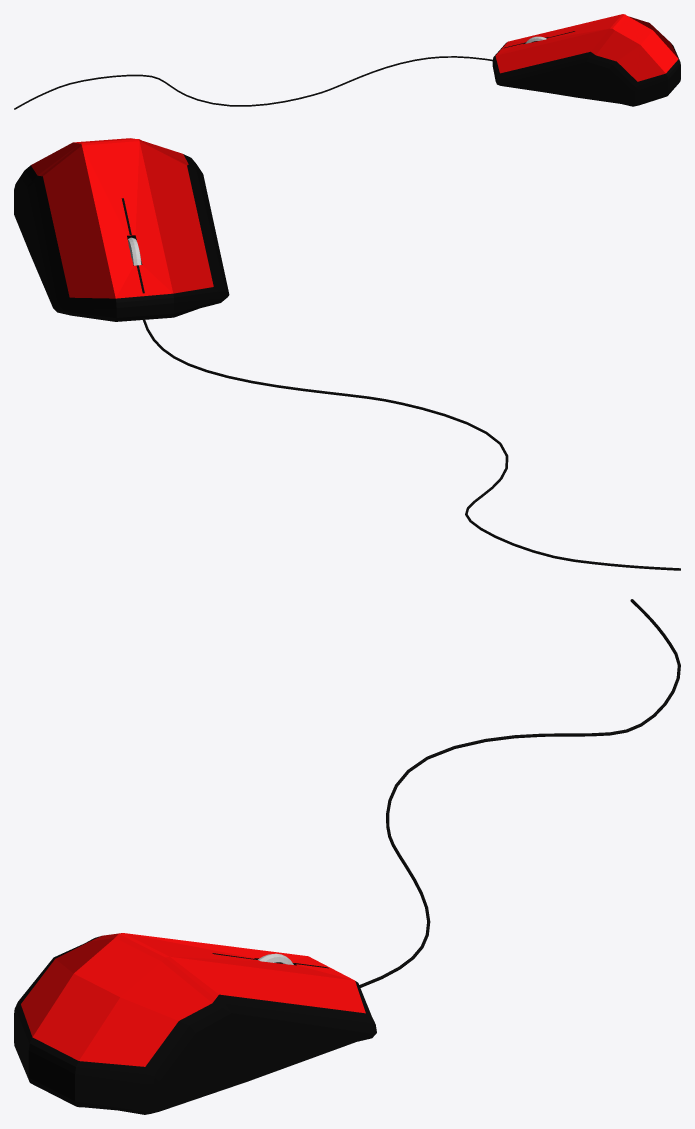
File: Computer mouse.obj
3 views of the same model, one above another, from view 1: azimuth 30°, elevation 25°; view 2: azimuth 150°, elevation 25°; view 3: azimuth 270°, elevation 25° (orthographic). The views are drawn at different scales.
Visible parts, largest first — view 1: Box20179, Line002; view 2: Box20179, Line002; view 3: Box20179, Line002.
Part boxes in pixels (left/top/right/bottom): Box20179: left=492, top=14, right=680, bottom=106; Line002: left=14, top=56, right=492, bottom=109; Box20179: left=14, top=138, right=229, bottom=321; Line002: left=142, top=318, right=680, bottom=570; Box20179: left=14, top=933, right=376, bottom=1114; Line002: left=359, top=599, right=680, bottom=987.
Size of the model in its own units: 1333 by 146 by 722.
